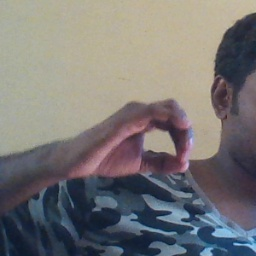O: (75, 95, 196, 182)
